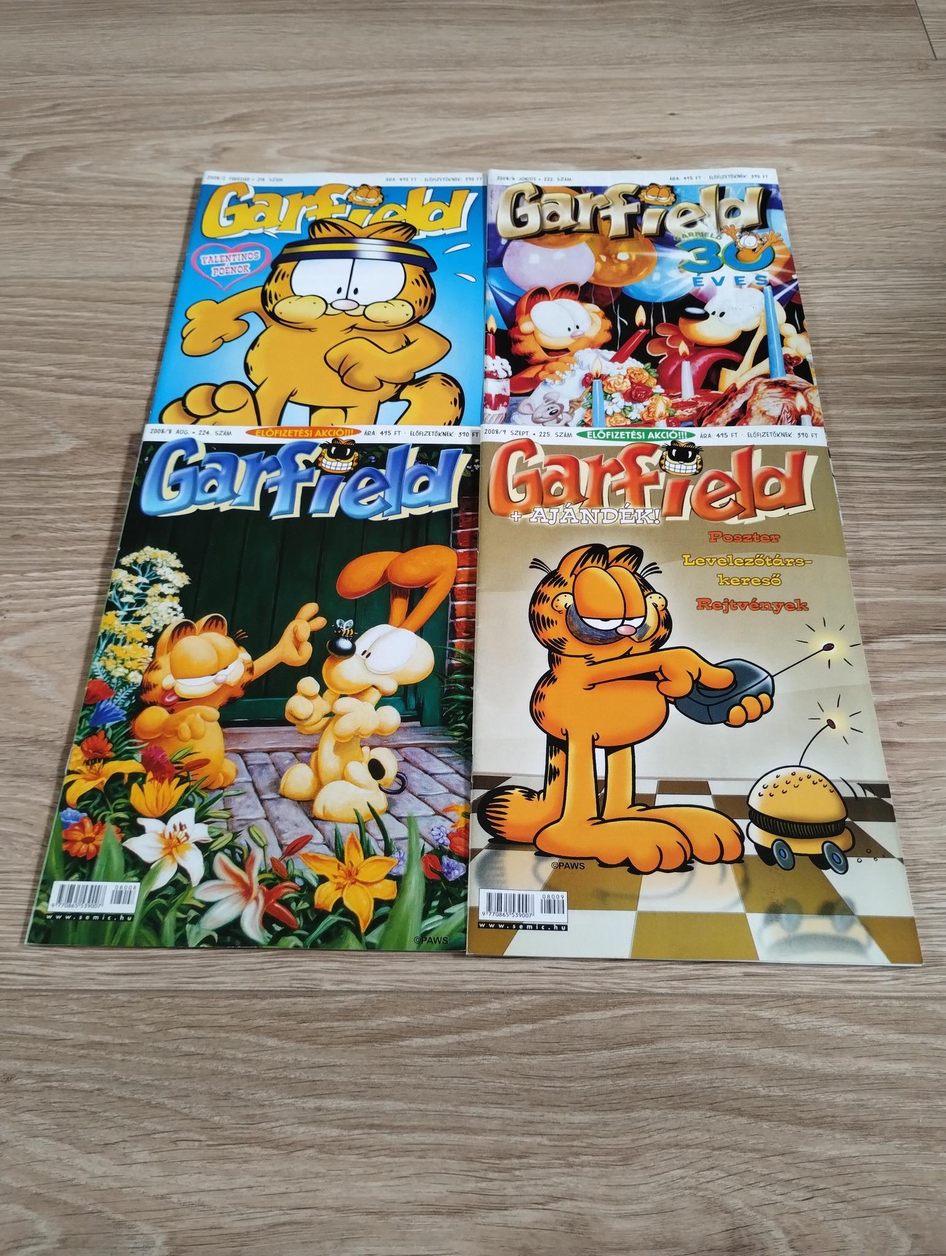comic: (467, 163, 940, 965), (28, 417, 479, 953), (483, 169, 821, 429), (151, 171, 484, 427)
